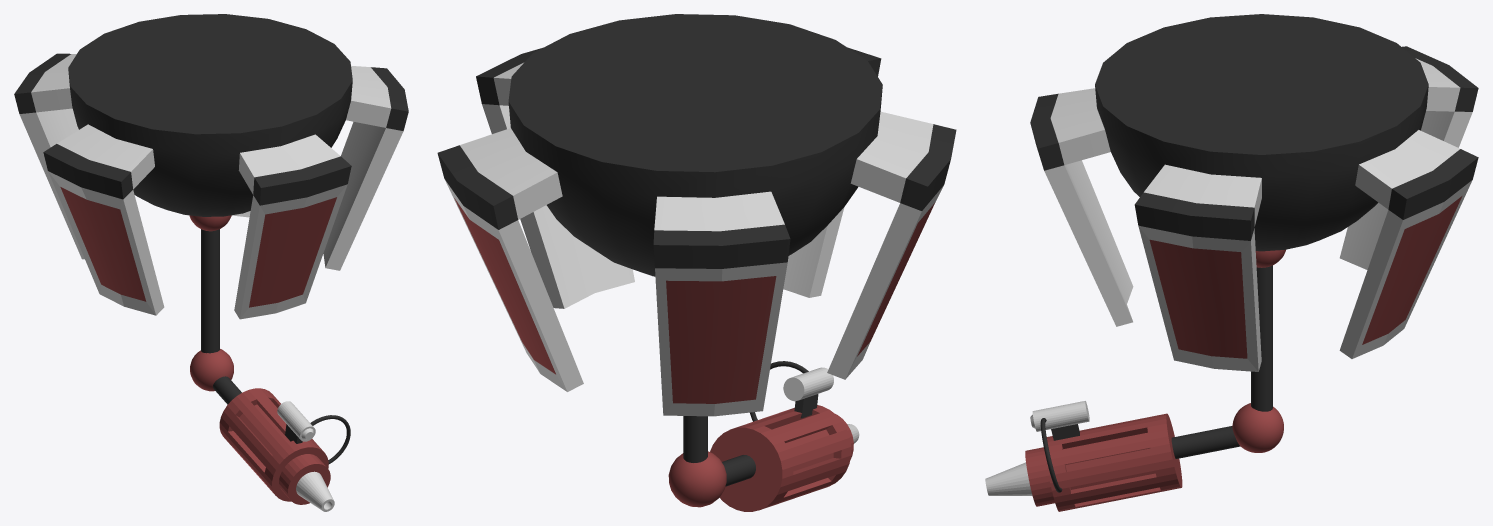
Rendered from Mesh_CeilingTurret_m01_v01.fbx.
3 views of the same model, side by side, from view 1: azimuth 30°, elevation 25°; view 2: azimuth 150°, elevation 25°; view 3: azimuth 270°, elevation 25° (orthographic). The views are drawn at different scales.
Visible parts, largest first — view 1: Gun_base, Gun, Arm_1, Joint_2, Camera, Joint_1, Arm_2; view 2: Gun_base, Gun, Joint_2, Camera, Arm_1, Arm_2; view 3: Gun_base, Gun, Arm_1, Joint_2, Arm_2, Camera.
Boxes of the visible parts, x1=… form: Gun_base: x1=14, y1=14, x2=408, y2=319; Gun: x1=219, y1=388, x2=334, y2=511; Arm_1: x1=201, y1=229, x2=219, y2=353; Joint_2: x1=190, y1=349, x2=233, y2=391; Camera: x1=277, y1=401, x2=315, y2=441; Joint_1: x1=189, y1=215, x2=231, y2=231; Arm_2: x1=213, y1=376, x2=241, y2=404; Gun_base: x1=437, y1=14, x2=956, y2=416; Gun: x1=710, y1=405, x2=859, y2=511; Joint_2: x1=668, y1=451, x2=726, y2=507; Camera: x1=783, y1=367, x2=833, y2=401; Arm_1: x1=683, y1=416, x2=707, y2=462; Arm_2: x1=722, y1=455, x2=755, y2=486; Gun_base: x1=1030, y1=14, x2=1478, y2=371; Gun: x1=985, y1=413, x2=1182, y2=511; Arm_1: x1=1251, y1=265, x2=1272, y2=411; Joint_2: x1=1232, y1=403, x2=1283, y2=452; Arm_2: x1=1171, y1=426, x2=1240, y2=458; Camera: x1=1030, y1=401, x2=1089, y2=431.
Size of the model in its own units: 2.04 by 2.06 by 2.17.
